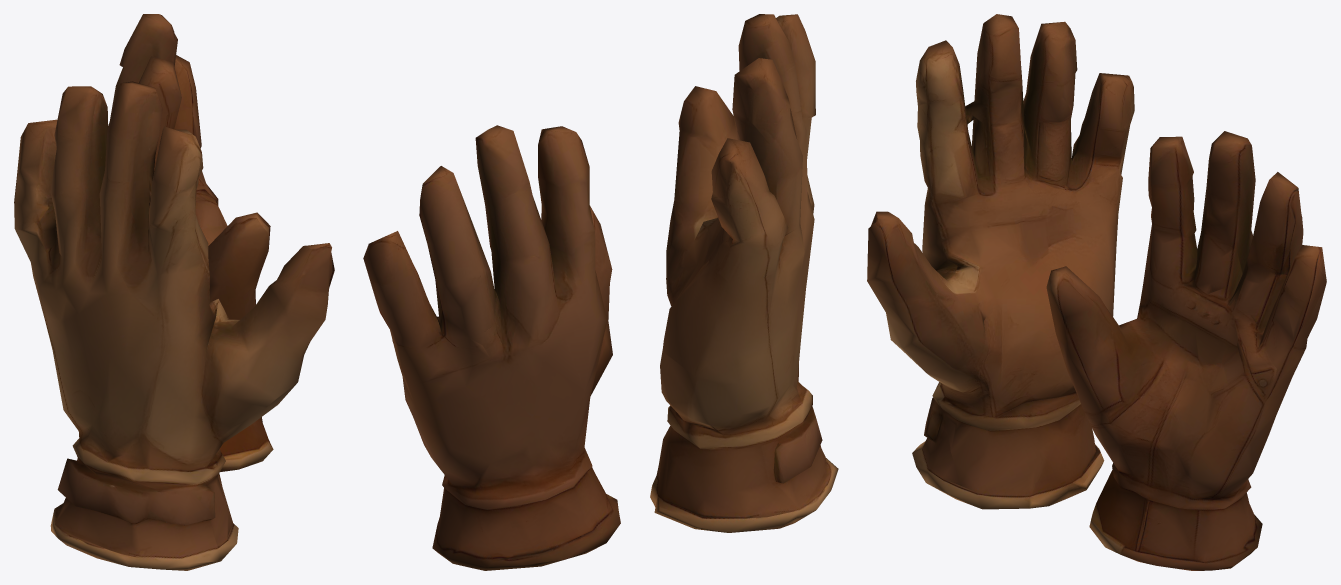
Rendered from item_gloves.glb.
3 renders of one model, left to right at view 1: azimuth 30°, elevation 25°; view 2: azimuth 150°, elevation 25°; view 3: azimuth 270°, elevation 25°, orthographic. The views are drawn at different scales.
Parts seen in each view (by area): view 1: tripo_node_d3113f69-0768-44d2-9f22-e7586d0ab329; view 2: tripo_node_d3113f69-0768-44d2-9f22-e7586d0ab329; view 3: tripo_node_d3113f69-0768-44d2-9f22-e7586d0ab329.
Part boxes in pixels (x1,y1,x2,y2): tripo_node_d3113f69-0768-44d2-9f22-e7586d0ab329: [14, 14, 334, 570]; tripo_node_d3113f69-0768-44d2-9f22-e7586d0ab329: [363, 14, 838, 570]; tripo_node_d3113f69-0768-44d2-9f22-e7586d0ab329: [867, 14, 1326, 570].
Size of the model in its own units: 0.6316 by 1 by 0.9051.
1 material, 1 textured.
